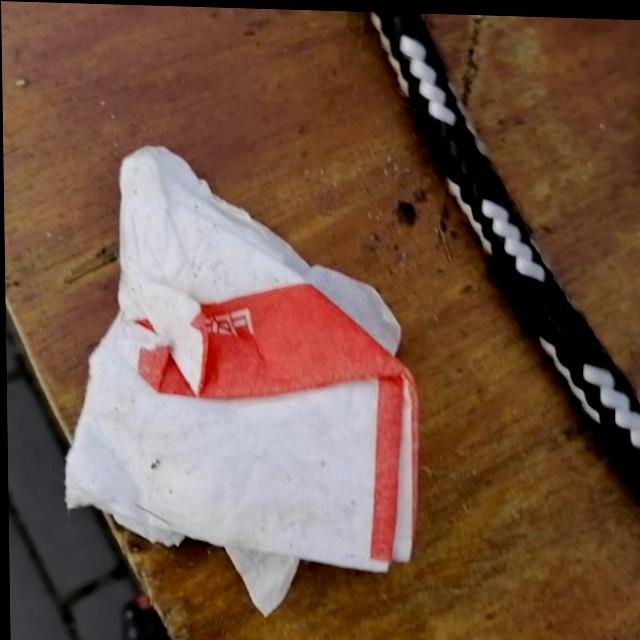Paper: (57, 141, 422, 620)
